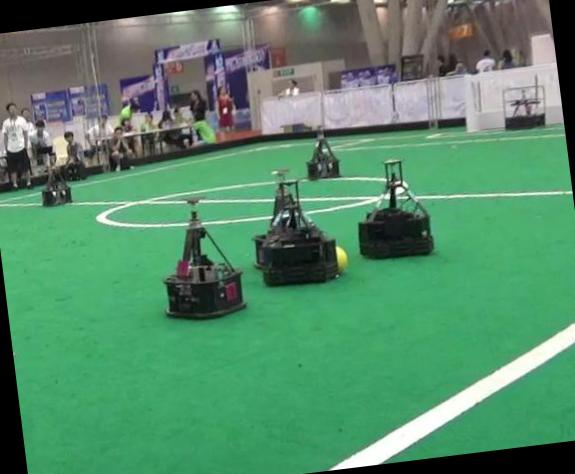ball: (334, 246, 348, 272)
goal: (463, 75, 477, 131)
person: (1, 104, 30, 189)
robot: (163, 199, 245, 318), (253, 180, 338, 285), (357, 160, 432, 258), (501, 75, 545, 129), (306, 129, 339, 179), (41, 155, 71, 207)
